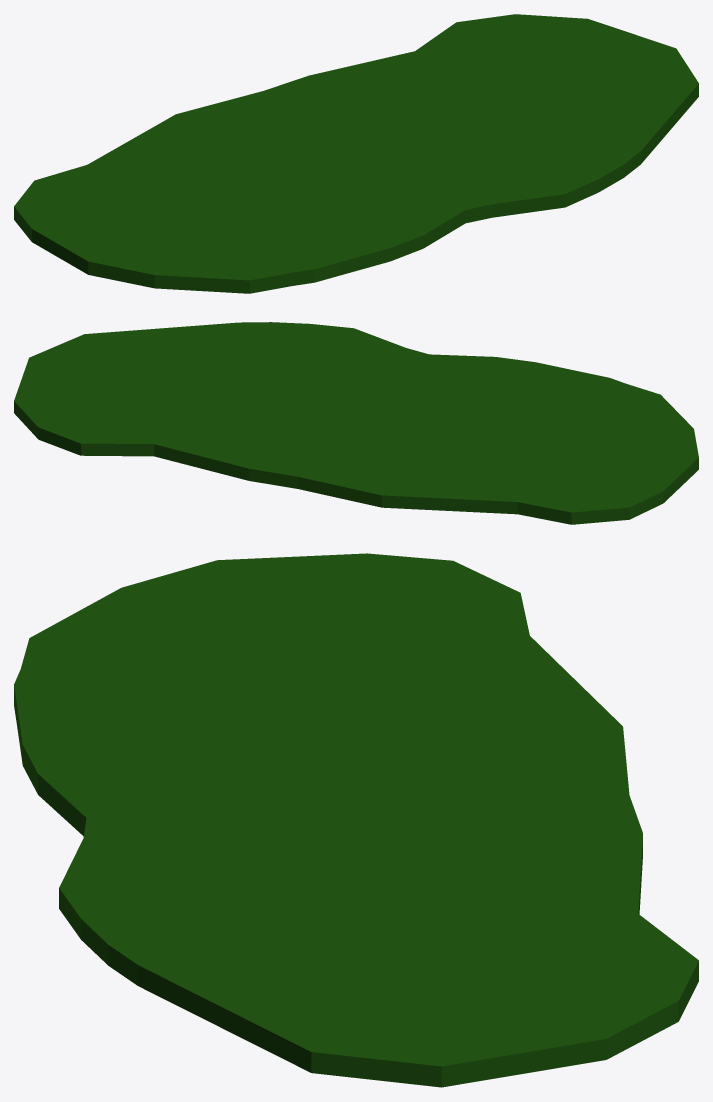
Rendered from Sand 21.FBX.
The picture shows the model from 3 angles, top to bottom: view 1: azimuth 30°, elevation 25°; view 2: azimuth 150°, elevation 25°; view 3: azimuth 270°, elevation 25°; orthographic projection. The views are drawn at different scales.
Visible parts, largest first — view 1: Plane001; view 2: Plane001; view 3: Plane001.
Boxes of the visible parts, x1,y1,x2,y2 form: Plane001: (14, 14, 698, 293); Plane001: (14, 322, 698, 524); Plane001: (14, 553, 698, 1087).
Bounding box in the file's own units: 114 × 2.18 × 64.4.
